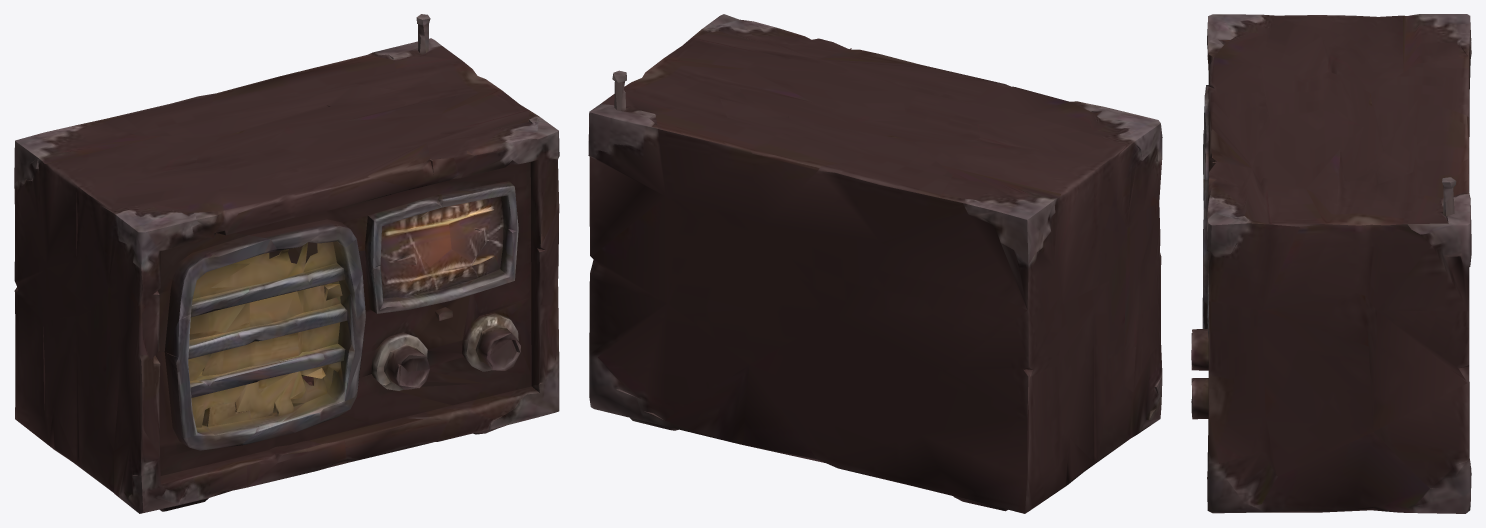
The model's file is radio_desk_nastolnyy_idle.glb.
3 views of the same model, side by side, from view 1: azimuth 30°, elevation 25°; view 2: azimuth 150°, elevation 25°; view 3: azimuth 270°, elevation 25° (orthographic). The views are drawn at different scales.
Visible parts, largest first — view 1: tripo_node_4dbce83f-c042-414e-90a9-8bd5db42ff03; view 2: tripo_node_4dbce83f-c042-414e-90a9-8bd5db42ff03; view 3: tripo_node_4dbce83f-c042-414e-90a9-8bd5db42ff03.
Boxes of the visible parts, x1,y1,x2,y2 form: tripo_node_4dbce83f-c042-414e-90a9-8bd5db42ff03: [14, 14, 559, 513]; tripo_node_4dbce83f-c042-414e-90a9-8bd5db42ff03: [588, 14, 1162, 513]; tripo_node_4dbce83f-c042-414e-90a9-8bd5db42ff03: [1191, 14, 1471, 513].
Size of the model in its own units: 0.3379 by 0.2497 by 0.1892.
1 material, 1 textured.
